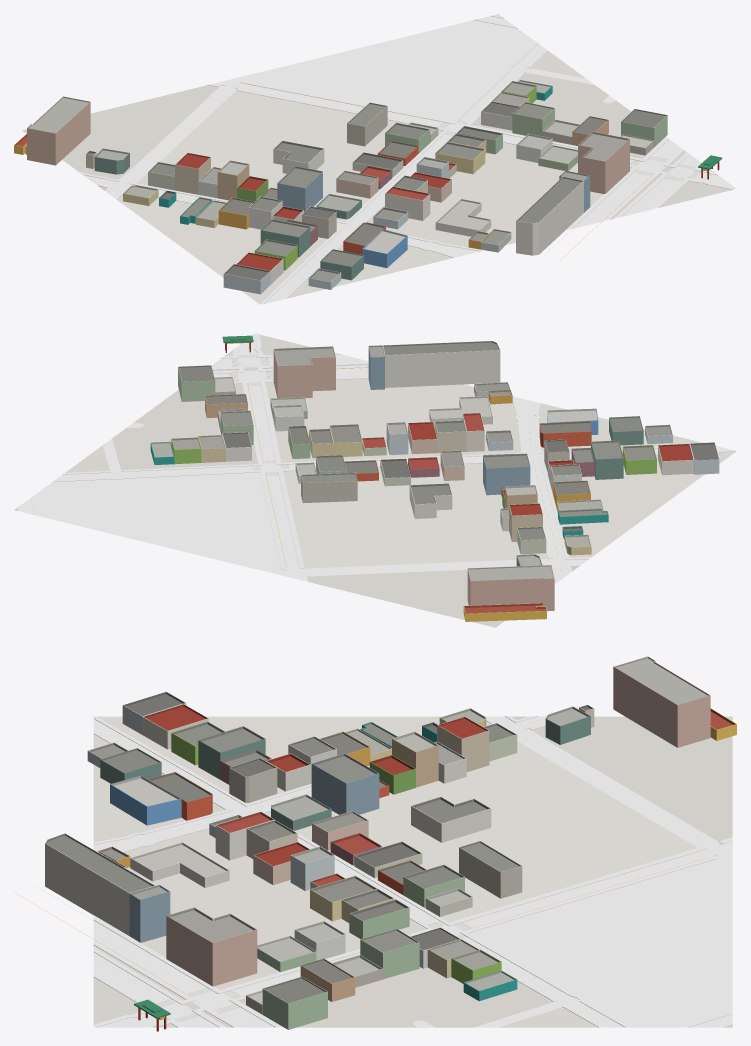
3 renders of one model, top to bottom at view 1: azimuth 30°, elevation 25°; view 2: azimuth 150°, elevation 25°; view 3: azimuth 270°, elevation 25°, orthographic. The views are drawn at different scales.
Parts seen in each view (by area): view 1: ground, walls, roofs, grass, asphalt, sidewalk, pavers, markings; view 2: ground, walls, roofs, grass, asphalt, sidewalk, pavers, markings; view 3: ground, walls, roofs, grass, asphalt, sidewalk, pavers, markings.
Part boxes in pixels (x1,y1,x2,y2): ground: (22,14,732,304); walls: (14,86,667,294); roofs: (14,80,667,282); grass: (246,20,535,121); asphalt: (83,16,701,304); sidewalk: (80,15,736,304); pavers: (117,74,734,187); markings: (90,84,700,260); ground: (14,334,735,627); walls: (150,347,719,621); roofs: (150,341,719,613); grass: (34,472,281,570); asphalt: (20,354,731,582); sidewalk: (17,333,736,583); pavers: (237,334,553,576); markings: (212,354,562,577); ground: (93,716,732,1027); walls: (45,661,736,1029); roofs: (45,656,736,1004); grass: (468,859,732,1027); asphalt: (93,716,732,1027); sidewalk: (93,716,732,1027); pavers: (97,728,732,1027); markings: (15,722,706,1028).
Size of what is drawn, in the model's own units: 270 by 16.41 by 245.
